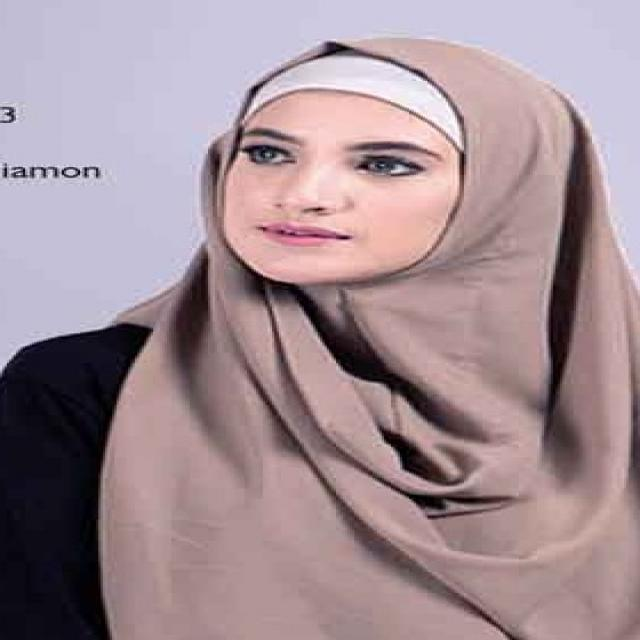head: (215, 36, 511, 293)
